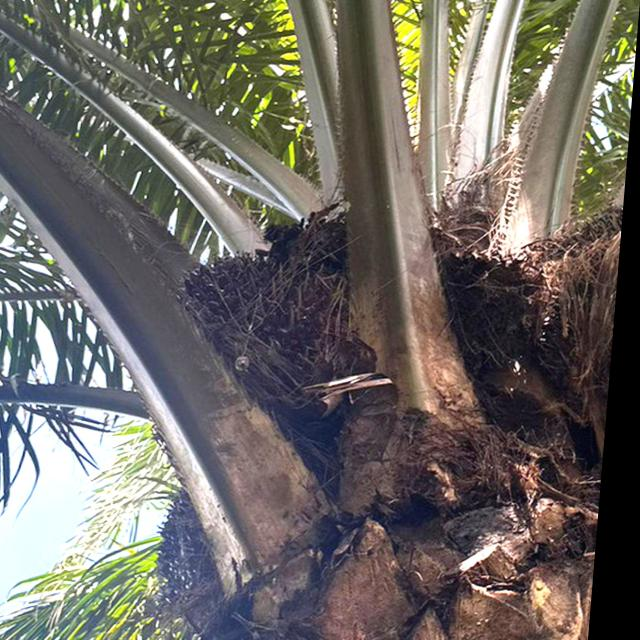ripe: (173, 228, 374, 412)
